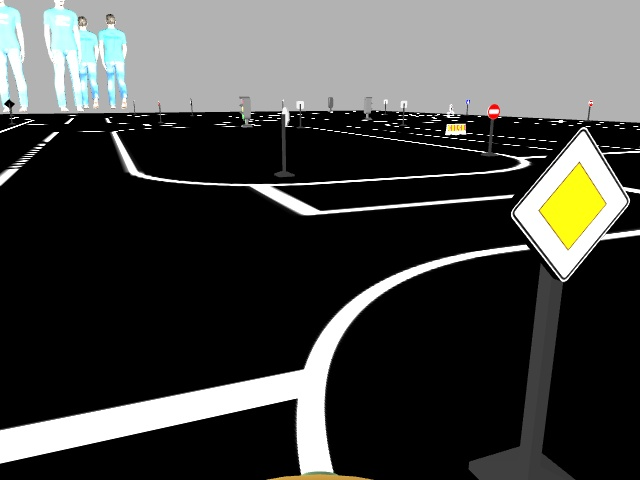Priority: (517, 124, 628, 283)
